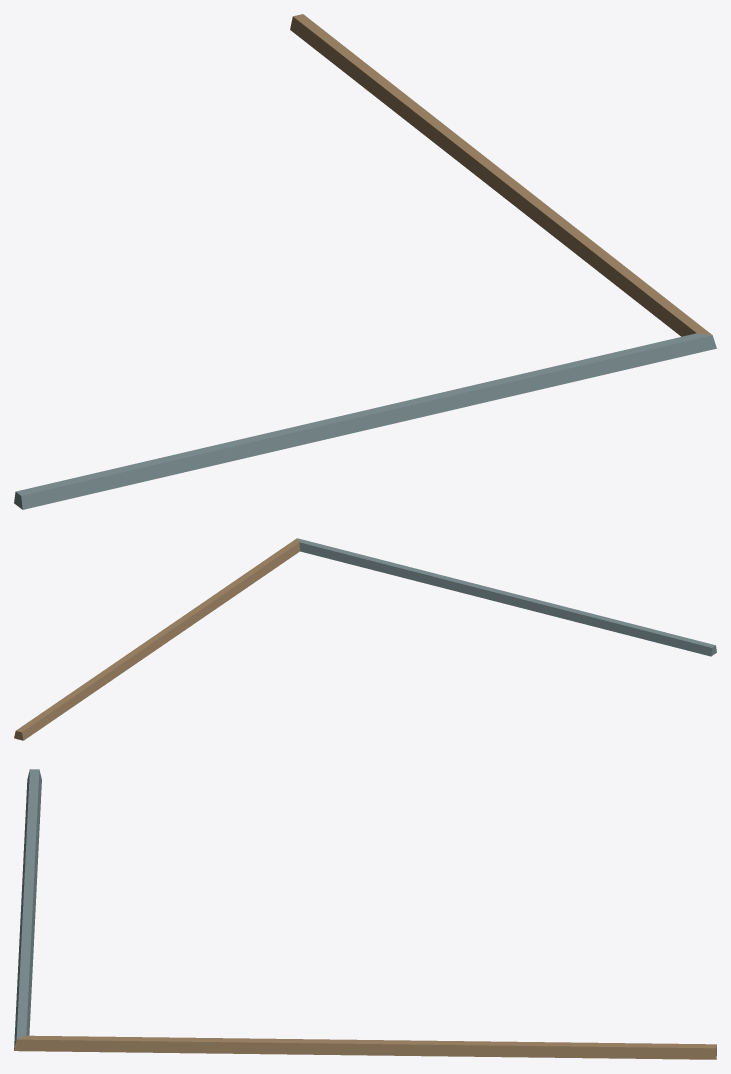
The model's file is wall-04.glb.
3 renders of one model, top to bottom at view 1: azimuth 30°, elevation 25°; view 2: azimuth 150°, elevation 25°; view 3: azimuth 270°, elevation 25°, orthographic. The views are drawn at different scales.
Parts seen in each view (by area): view 1: C_wall_B_04; view 2: C_wall_B_04; view 3: C_wall_B_04.
Boxes of the visible parts, <box> form: C_wall_B_04: <box>14,14,716,509</box>; C_wall_B_04: <box>14,538,716,740</box>; C_wall_B_04: <box>14,769,716,1059</box>.
Size of the model in its own units: 452 by 7.83 by 479.
